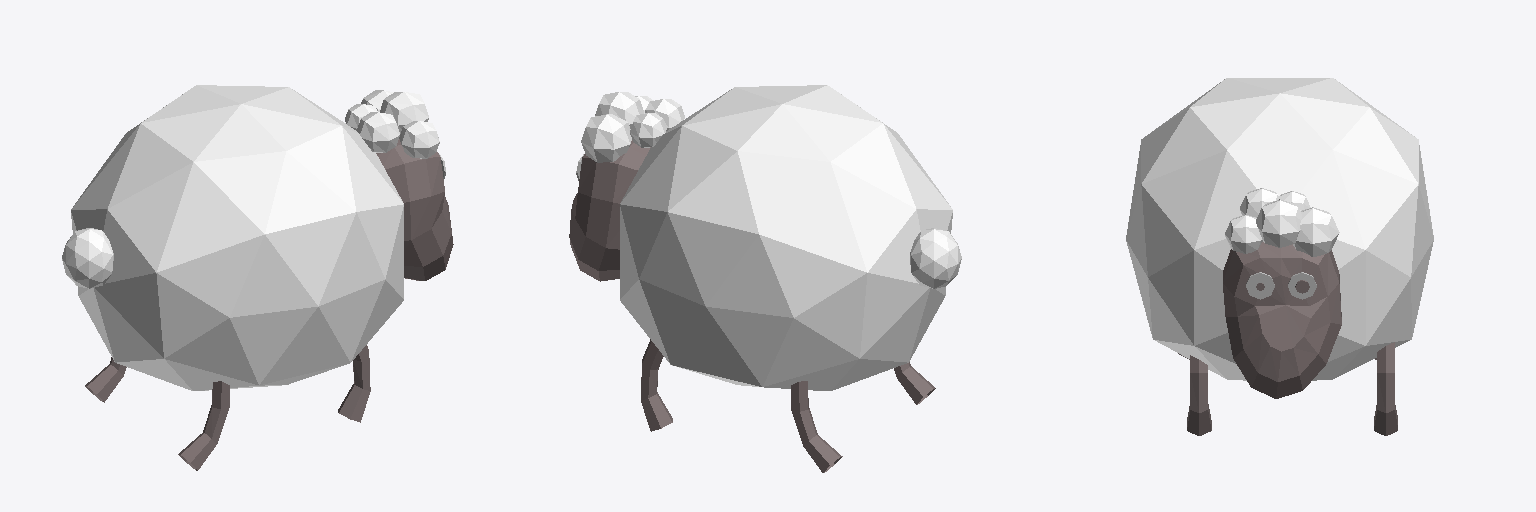
Rendered from chromeSheep.obj.
The picture shows the model from 3 angles: view 1: azimuth 30°, elevation 25°; view 2: azimuth 150°, elevation 25°; view 3: azimuth 270°, elevation 25°; orthographic projection.
Parts seen in each view (by area): view 1: Sheep Sphere, Sheep Head head, Sheep Sphere_1, Sheep legs Leg_04, Sheep legs Leg_03, Sheep Hairs Hair_01, Sheep Hairs Hair_05, Sheep Hairs Hair_04, Sheep legs Leg_02; view 2: Sheep Sphere, Sheep Head head, Sheep Sphere_1, Sheep Hairs Hair_03, Sheep legs Leg_02, Sheep legs Leg_01, Sheep Hairs Hair_04, Sheep Hairs Hair_02, Sheep legs Leg_04, Sheep Hairs Hair_01; view 3: Sheep Sphere, Sheep Head head, Sheep legs Leg_01, Sheep Hairs Hair_04, Sheep Hairs Hair_03, Sheep legs Leg_03, Sheep Hairs Hair_05, Sheep Hairs Hair_01, Sheep Head Left_eye white_circle1.
Part boxes in pixels (x1,y1,x2,y2): Sheep Sphere: (71,85,403,390); Sheep Head head: (376,139,453,280); Sheep Sphere_1: (62,228,113,288); Sheep legs Leg_04: (178,381,229,470); Sheep legs Leg_03: (338,345,370,422); Sheep Hairs Hair_01: (357,112,399,152); Sheep Hairs Hair_05: (399,121,439,158); Sheep Hairs Hair_04: (380,92,428,133); Sheep legs Leg_02: (85,357,126,402); Sheep Sphere: (620,85,952,390); Sheep Head head: (569,140,650,281); Sheep Sphere_1: (910,228,961,288); Sheep Hairs Hair_03: (581,114,631,162); Sheep legs Leg_02: (791,381,842,472); Sheep legs Leg_01: (641,339,672,431); Sheep Hairs Hair_04: (595,92,643,128); Sheep Hairs Hair_02: (630,113,666,147); Sheep legs Leg_04: (894,362,935,404); Sheep Hairs Hair_01: (645,99,684,130); Sheep Sphere: (1126,78,1433,380); Sheep Head head: (1223,242,1341,398); Sheep legs Leg_01: (1374,342,1397,435); Sheep Hairs Hair_04: (1256,200,1301,247); Sheep Hairs Hair_03: (1293,207,1339,256); Sheep legs Leg_03: (1187,355,1211,435); Sheep Hairs Hair_05: (1225,215,1262,253); Sheep Hairs Hair_01: (1240,188,1278,217); Sheep Head Left_eye white_circle1: (1246,272,1274,299).
Bounding box in the file's own units: 155 × 121 × 109.